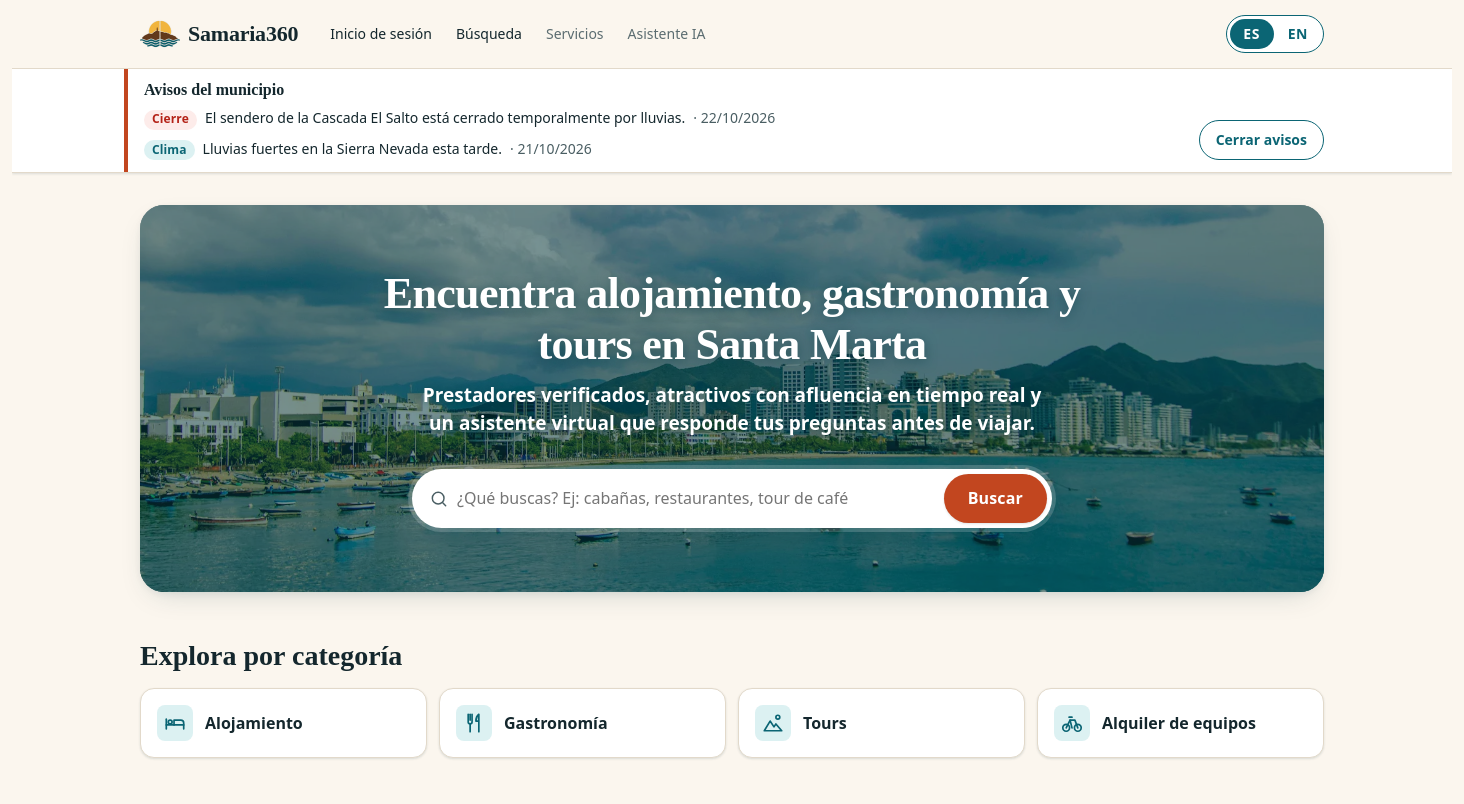
it: Banner de avisos del municipio (RF40, WF-14; DEC-67, DEC-72) › funciona aunque sessionStorage lance: se muestra y se cierra mientras la app sigue montada
Click the button "Cerrar avisos".
click(1261, 140)  # box [1199,120,1324,160]
(page scrolled)
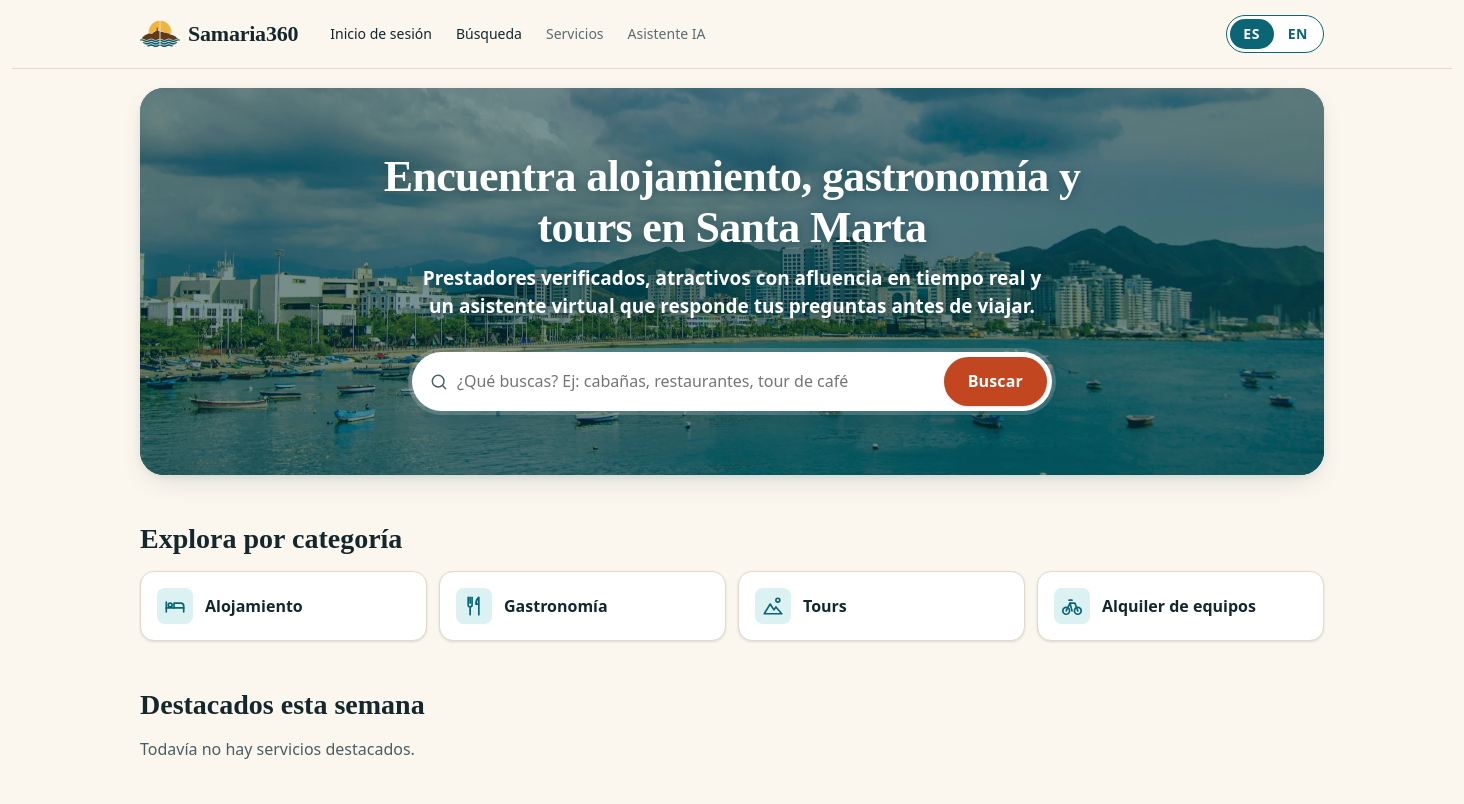
expect the heading "Avisos del municipio" is gone: met
